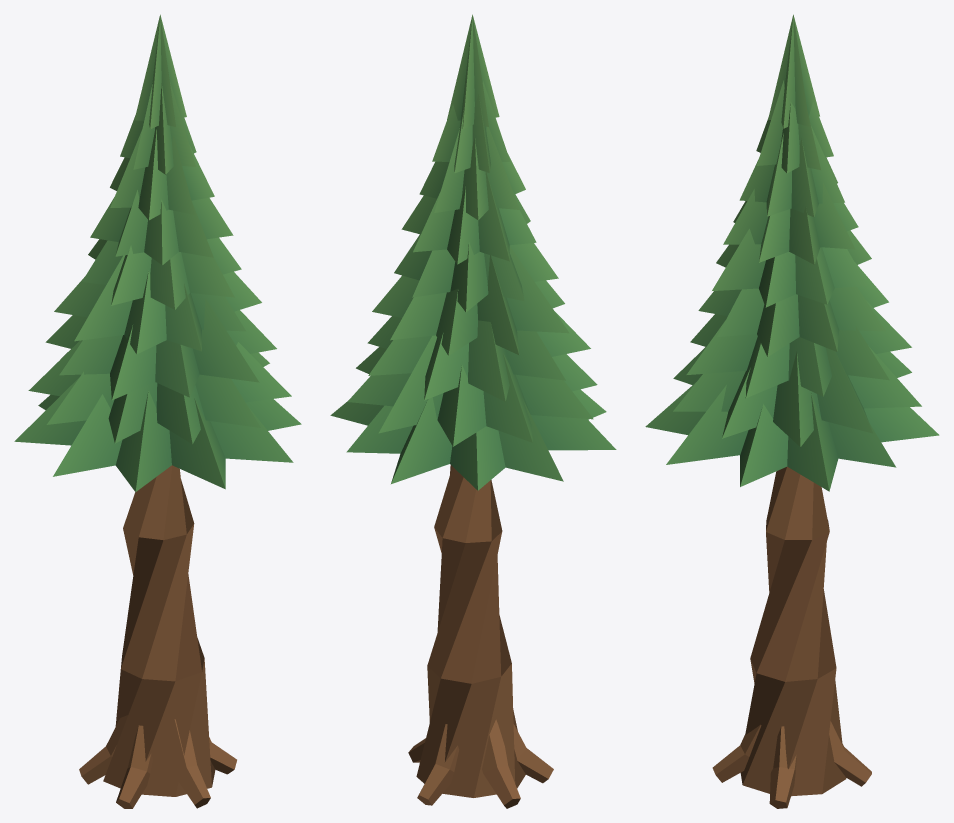
The model's file is giant_sequoia_spire.fbx.
3 renders of one model, left to right at view 1: azimuth 30°, elevation 25°; view 2: azimuth 150°, elevation 25°; view 3: azimuth 270°, elevation 25°, orthographic.
Visible parts, largest first — view 1: giant_sequoia_spire; view 2: giant_sequoia_spire; view 3: giant_sequoia_spire.
Boxes of the visible parts, x1,y1,x2,y2 form: giant_sequoia_spire: [14, 14, 301, 808]; giant_sequoia_spire: [330, 14, 616, 808]; giant_sequoia_spire: [645, 14, 939, 808].
Bounding box in the file's own units: 53.52 × 157 × 54.79.
